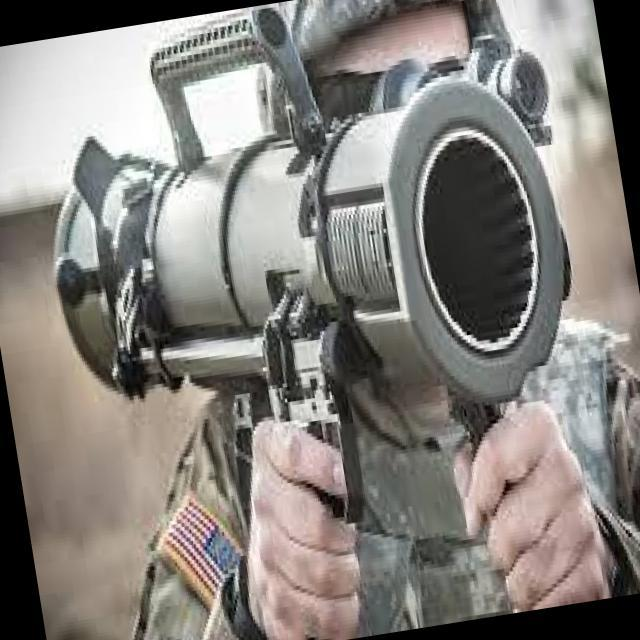rocket: (14, 0, 601, 481)
